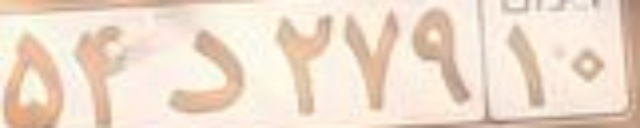0: (565, 49, 611, 82)
1: (505, 25, 546, 107)
2: (275, 14, 335, 116)
4: (72, 24, 127, 127)
5: (1, 30, 62, 127)
7: (343, 7, 396, 111)
9: (411, 7, 471, 103)
dal: (162, 29, 246, 114)
